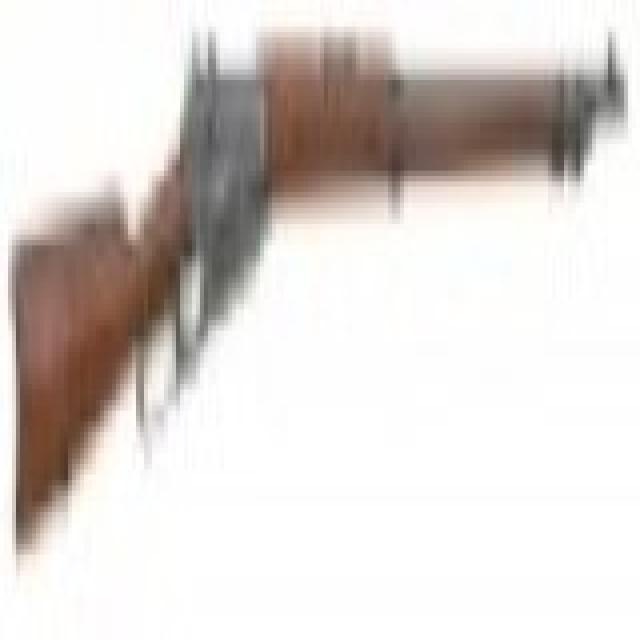Gun: (4, 5, 632, 530)
